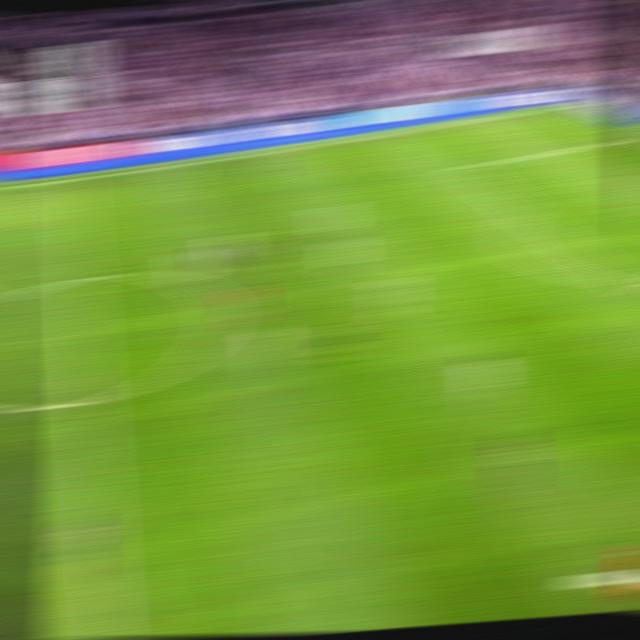bigarea_top_inner: (450, 160, 478, 174)
bottom_arc_area_intersection: (608, 271, 638, 288)
corner: (541, 104, 570, 112)
halfcircle_bottom: (74, 386, 108, 414)
halfcircle_top: (63, 265, 97, 292)
midline_top_intersection: (56, 172, 85, 187)
top_arc_area_intersection: (511, 204, 539, 217)
